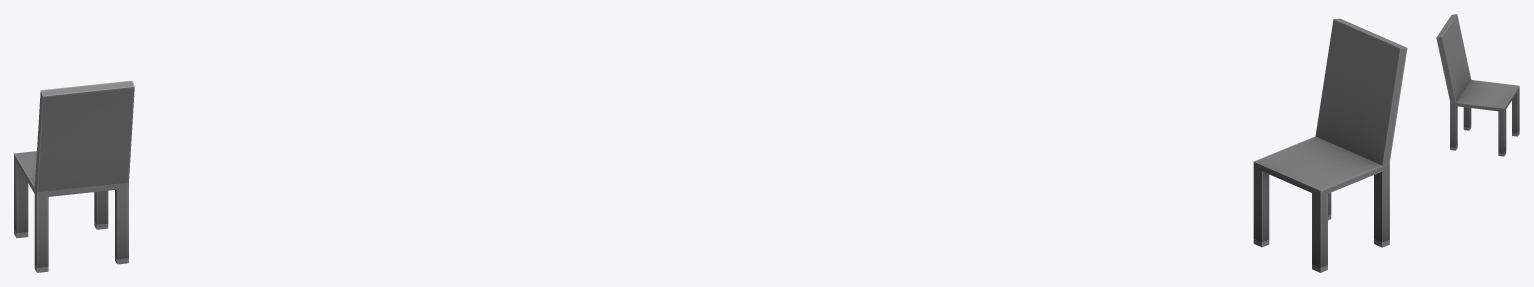
Rendered from bar_mesh.012_lev1.glb.
3 views of the same model, side by side, from view 1: azimuth 30°, elevation 25°; view 2: azimuth 150°, elevation 25°; view 3: azimuth 270°, elevation 25° (orthographic). The views are drawn at different scales.
Parts seen in each view (by area): view 1: bar_mesh.012_lev1; view 2: bar_mesh.012_lev1; view 3: bar_mesh.012_lev1.
Part boxes in pixels (<box>): bar_mesh.012_lev1: <box>14,80,134,272</box>; bar_mesh.012_lev1: <box>1253,18,1407,272</box>; bar_mesh.012_lev1: <box>1436,14,1519,156</box>.
Size of the model in its own units: 10.57 by 2.88 by 1.94.
Materials: 1 (1 with a texture image).
